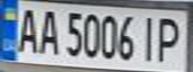0: (81, 10, 103, 60), (100, 11, 121, 61)
5: (60, 8, 84, 59)
6: (115, 11, 139, 62)
A: (12, 4, 42, 55), (33, 6, 60, 55)
I: (136, 12, 160, 62)
P: (151, 12, 187, 64)
